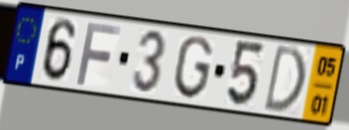3: (131, 28, 169, 96)
5: (226, 37, 268, 111)
6: (41, 16, 80, 85)
D: (261, 42, 308, 114)
F: (73, 19, 123, 88)
G: (171, 34, 216, 102)
